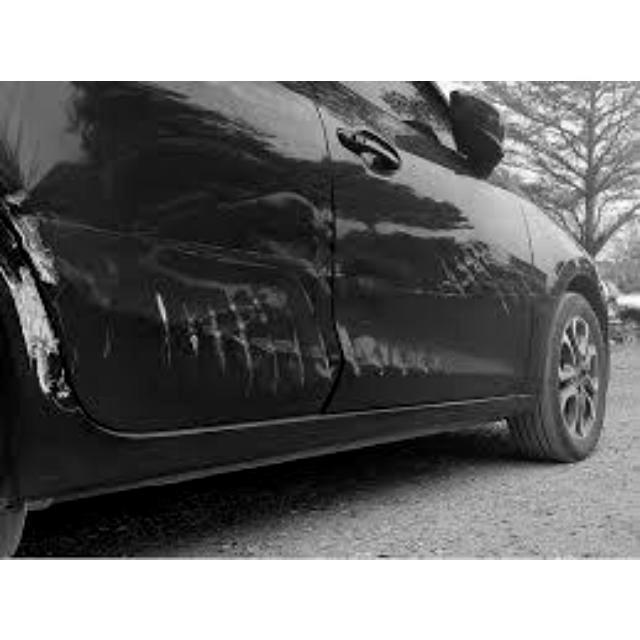doorouter-dent: (0, 88, 328, 419), (334, 116, 524, 419)
